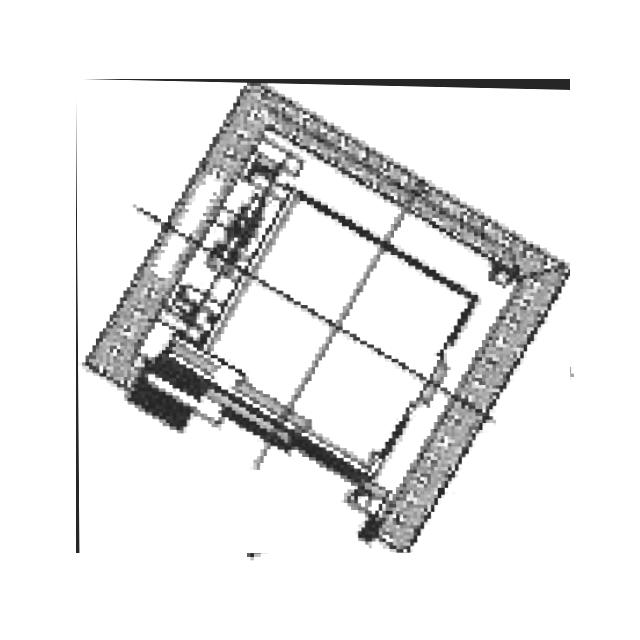lift: (77, 80, 570, 554)
